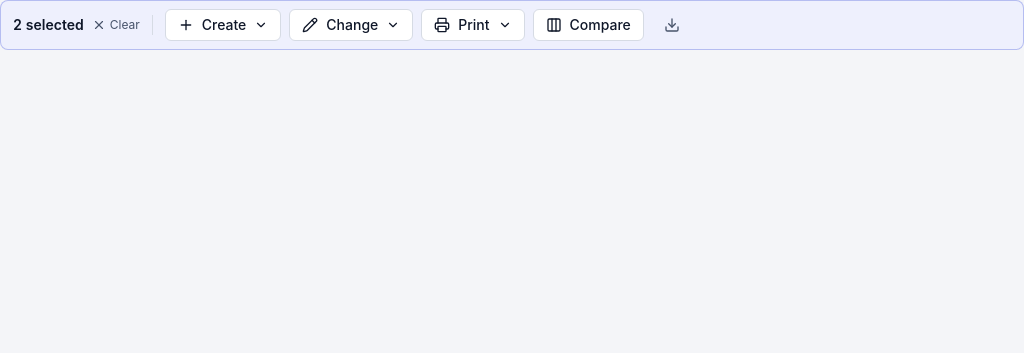
Test: changing them › does not offer to copy a template when none of them has one
Click the button "Change": (351, 25) [289,9,413,41]
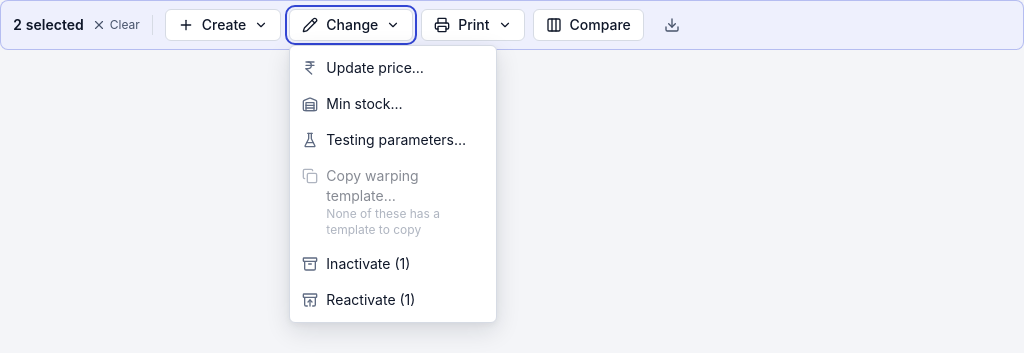
Now the menu item "Copy warping template… None of these has a template to copy" is disabled, box [290,158,496,246]
Now the text "None of these has a template to copy" is shown, box [326,206,440,237]
